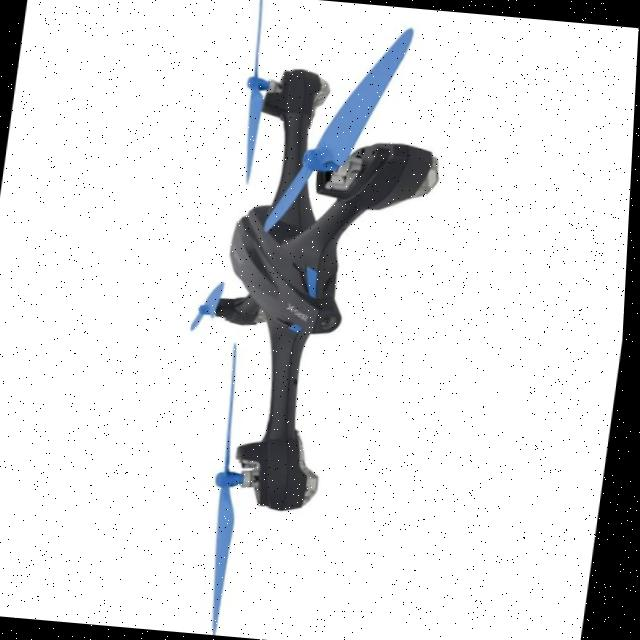drones: (153, 0, 478, 640)
